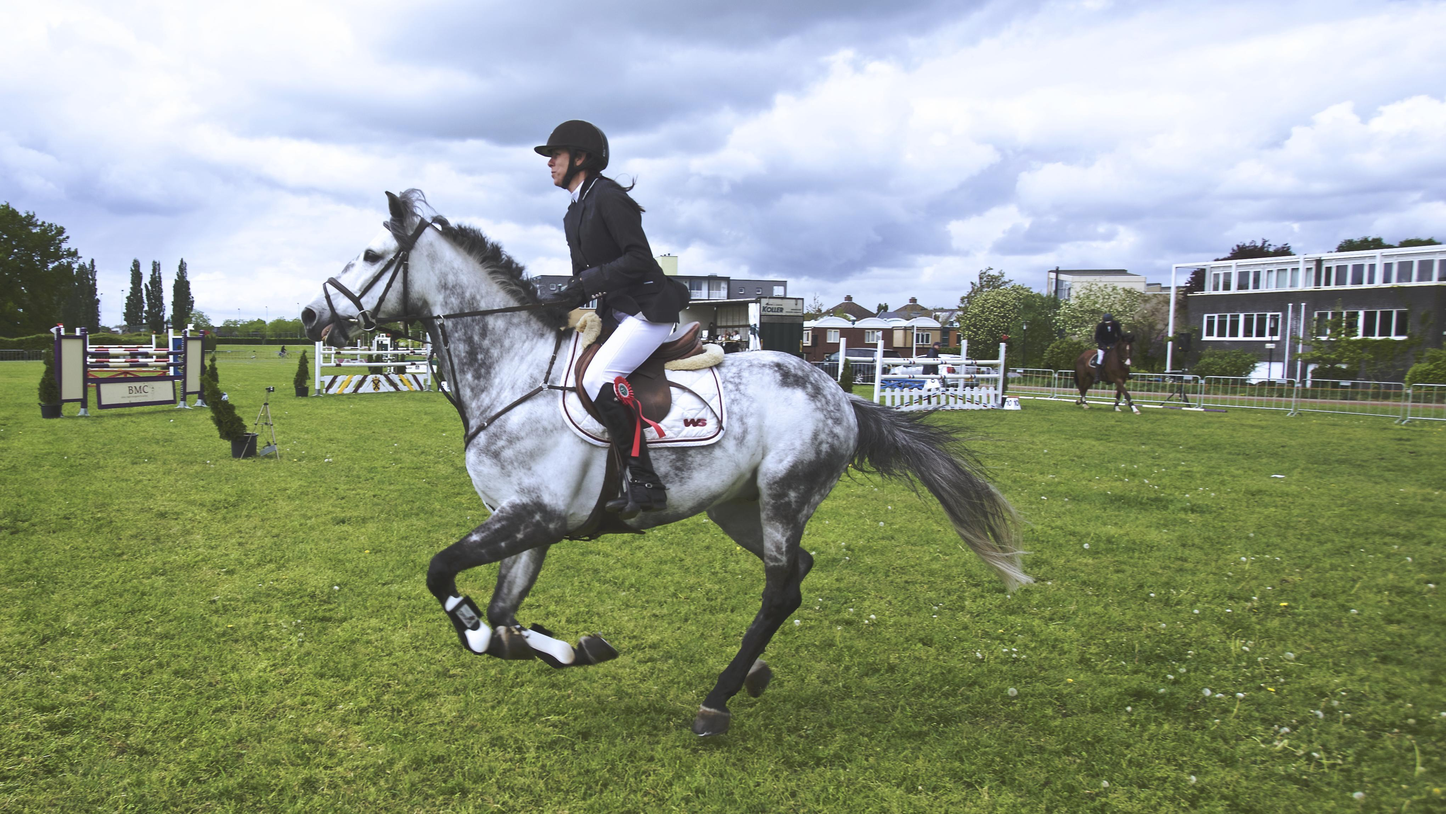horse: (286, 181, 1050, 750)
